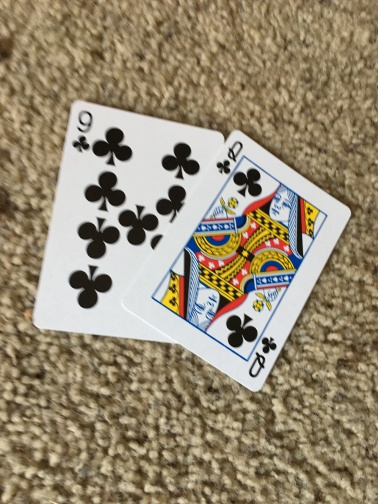nine: (30, 98, 224, 341)
queen: (130, 130, 352, 393)
